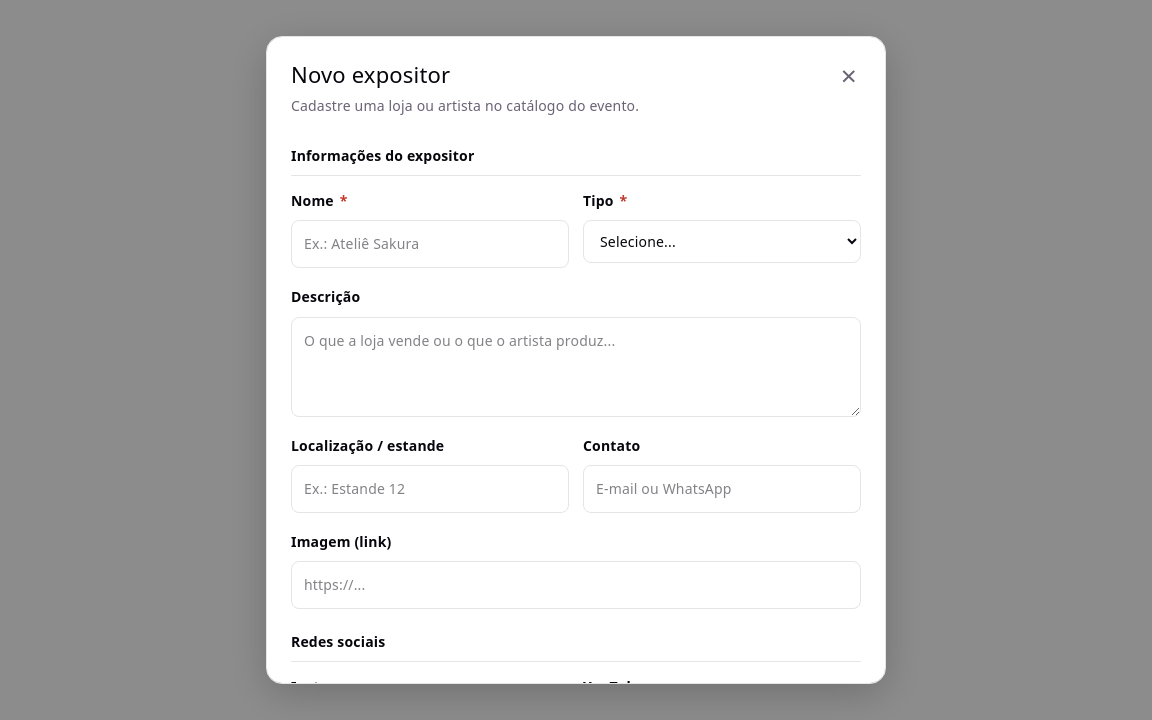
Test case: ExpositorForm › cadastro › rejeita imagem que não é link http(s)
Type "Loja X" into the field with id "nome" at (430, 244), box [291,220,569,268]
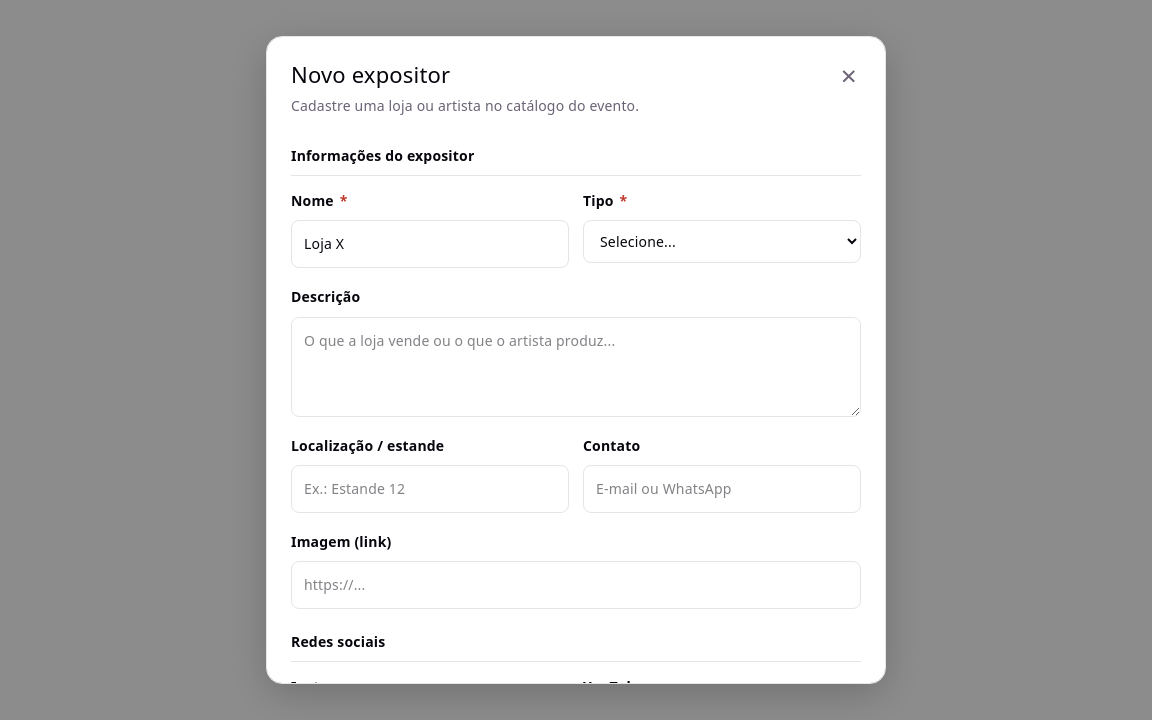
Select "Loja" in the dropdown with id "tipo" at (722, 242), box [583,220,861,263]
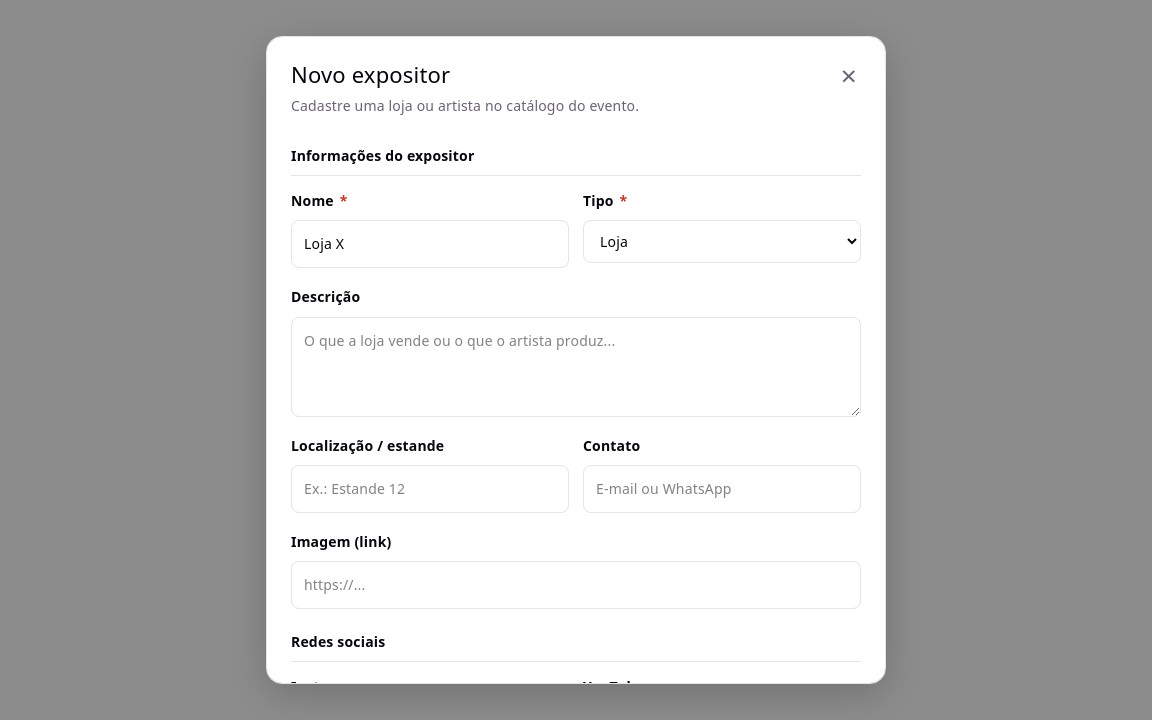
Type "javascript:alert(1)" into the field labelled "Imagem (link)" at (576, 585), box [291,561,861,609]
(page scrolled)
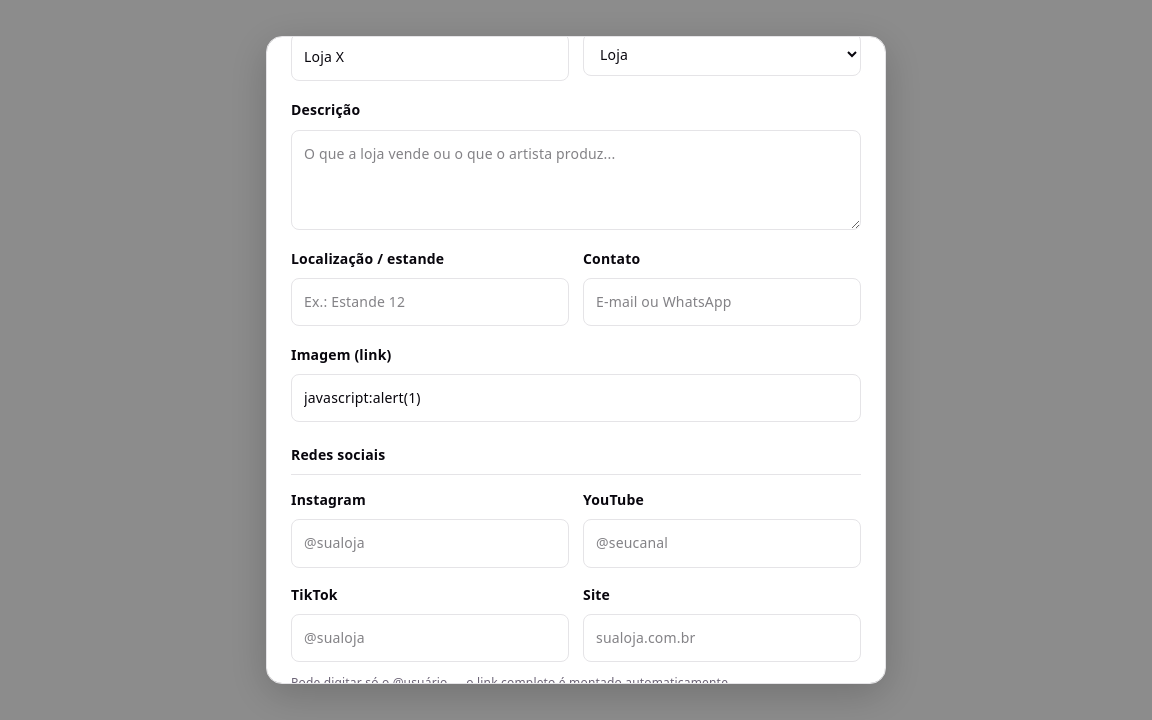
Submit the form
(page scrolled)
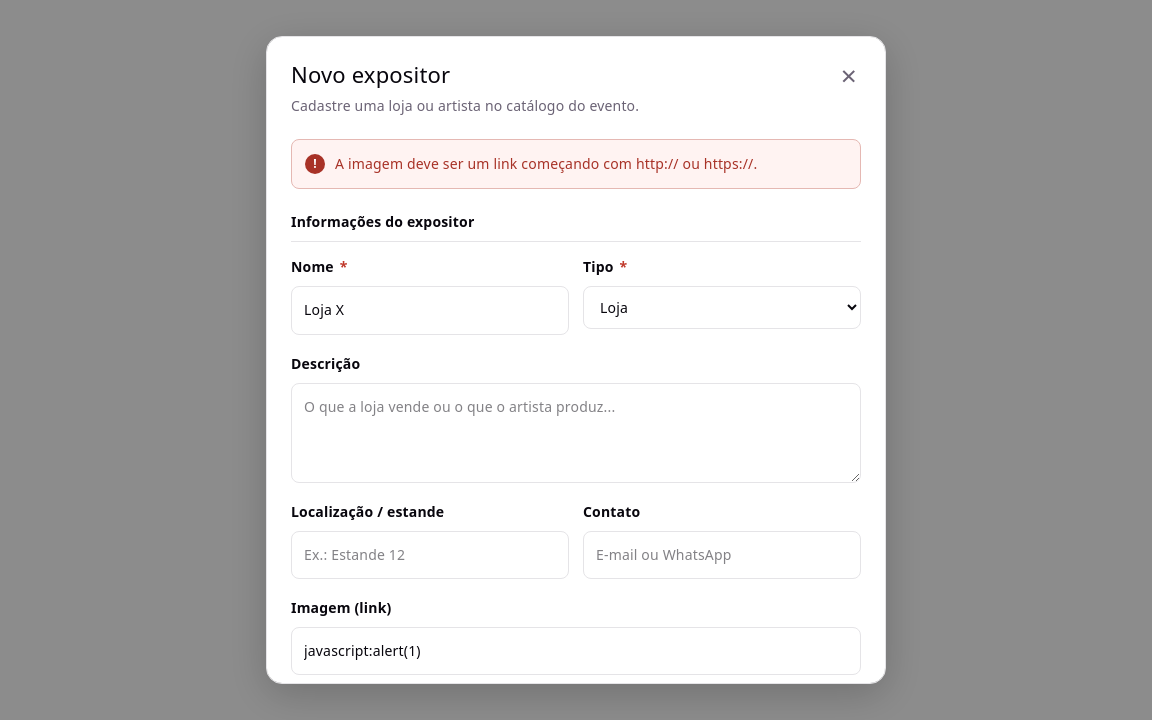
Expected: the message shows "A imagem deve ser um link começando com http:// ou https://.", [335,154,757,173]
